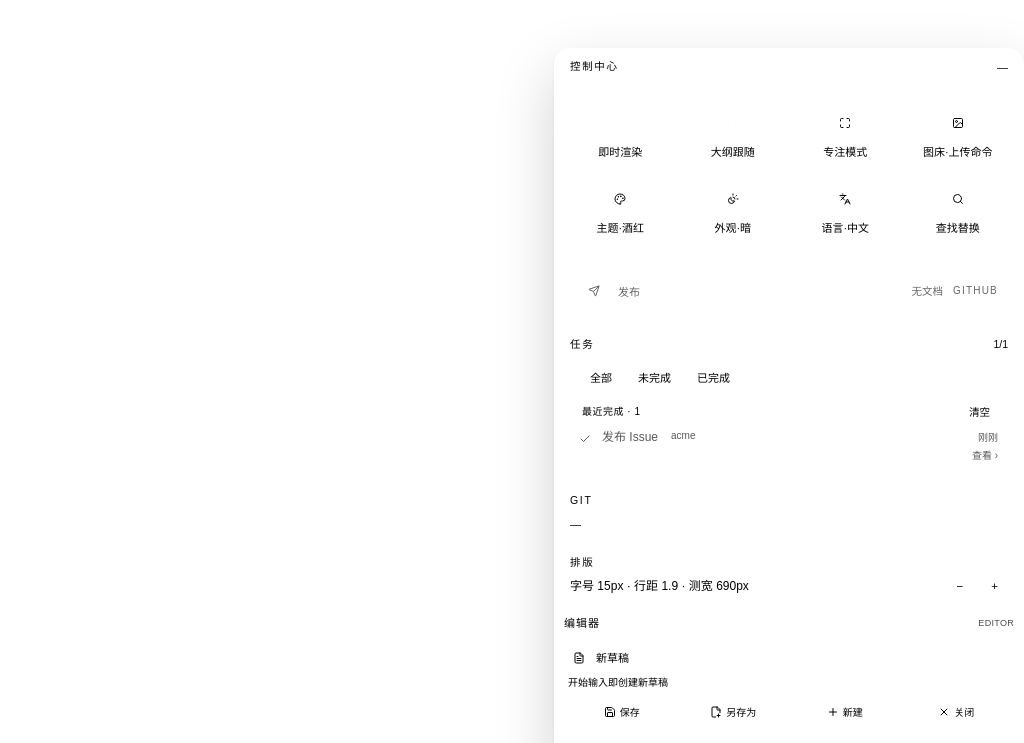
控制中心渲染冒烟（20261017-feature-app-layout-workbench D4） › 已完成任务归入「最近完成」段并可一键清空，零告警
(page scrolled)
Expected: the text "最近完成 · 1" is shown, [582,404,640,419]
Click the button with test id "capsule-clear-done" at (980, 412), box [963,403,996,420]
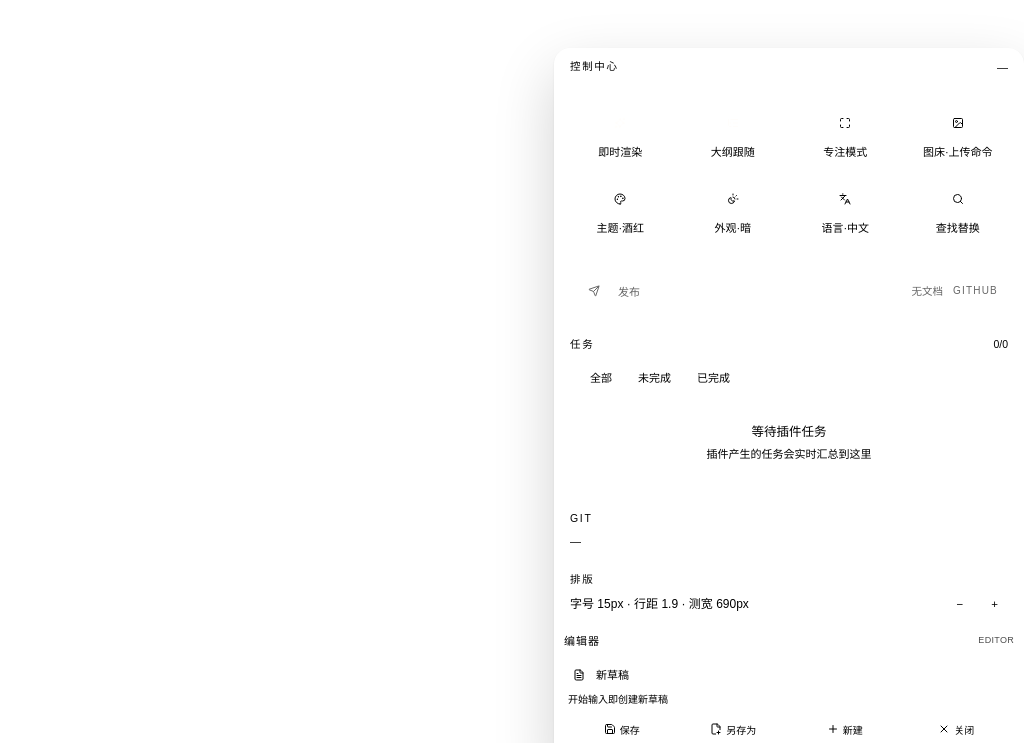
Now the text "等待插件任务" is shown, box [752,423,826,442]
